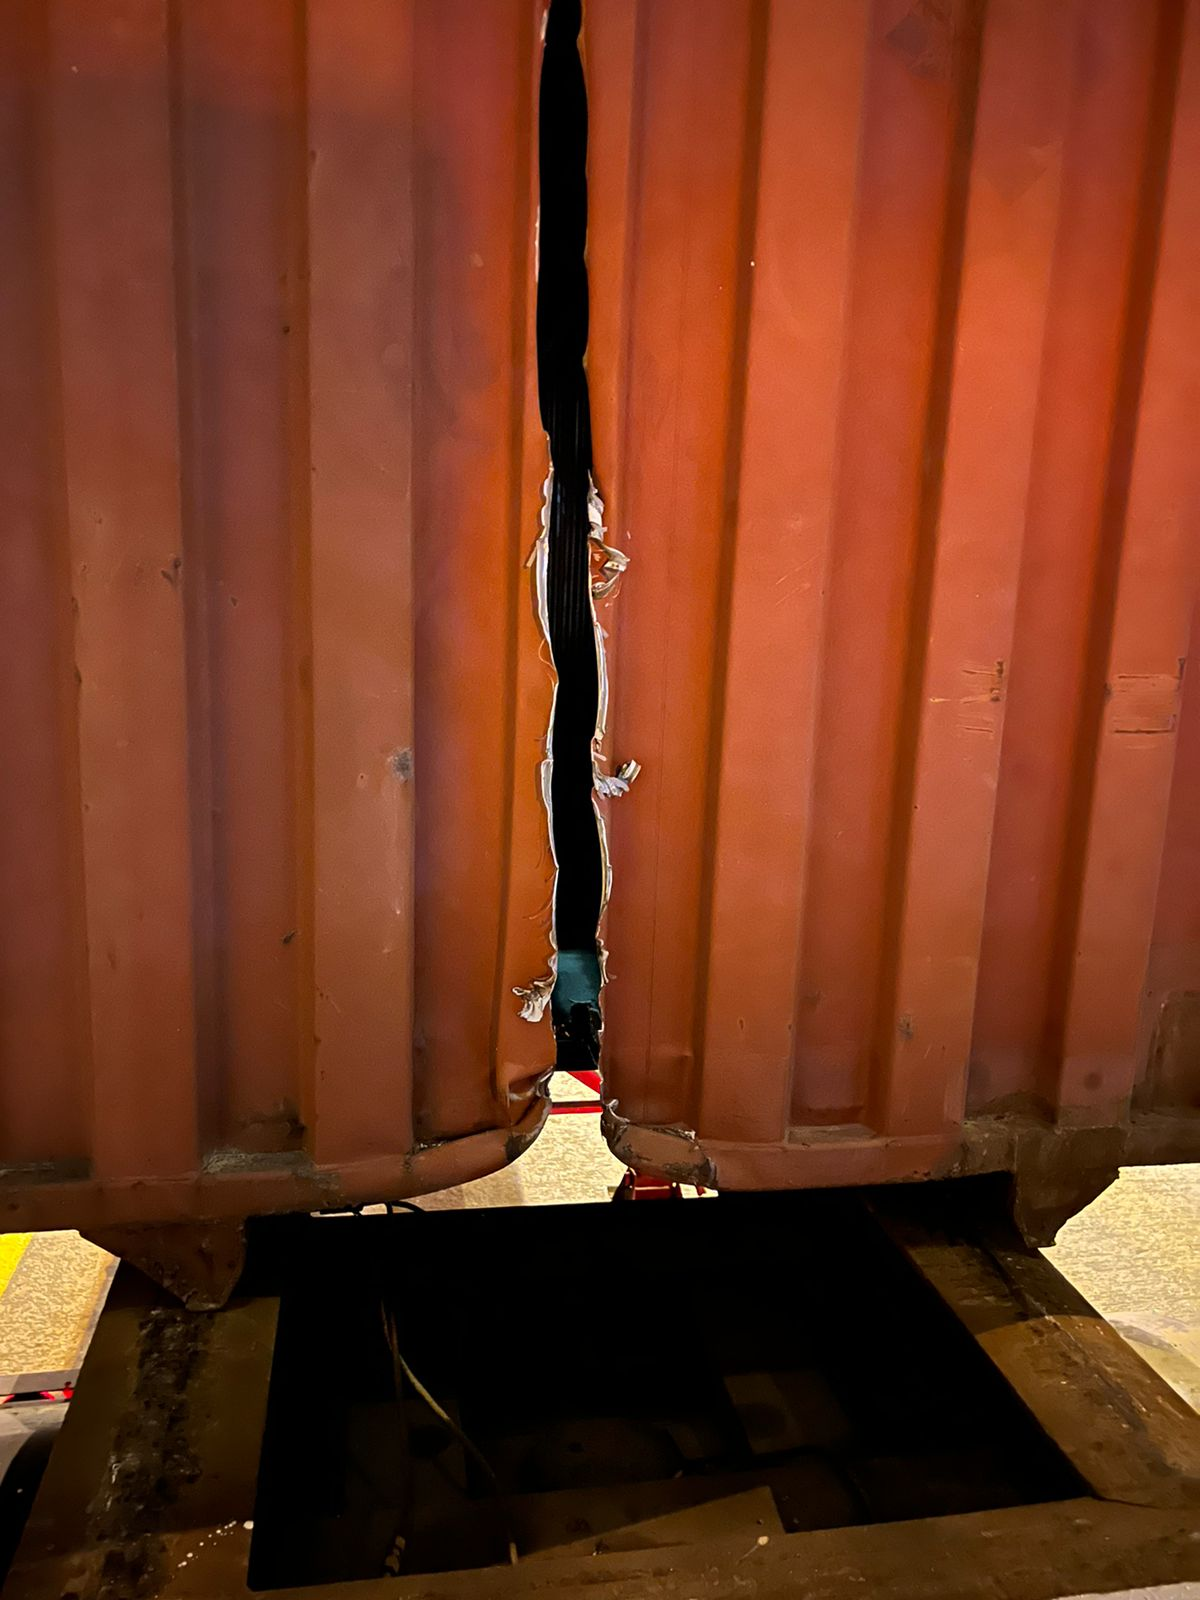cut: (440, 1, 677, 1133)
